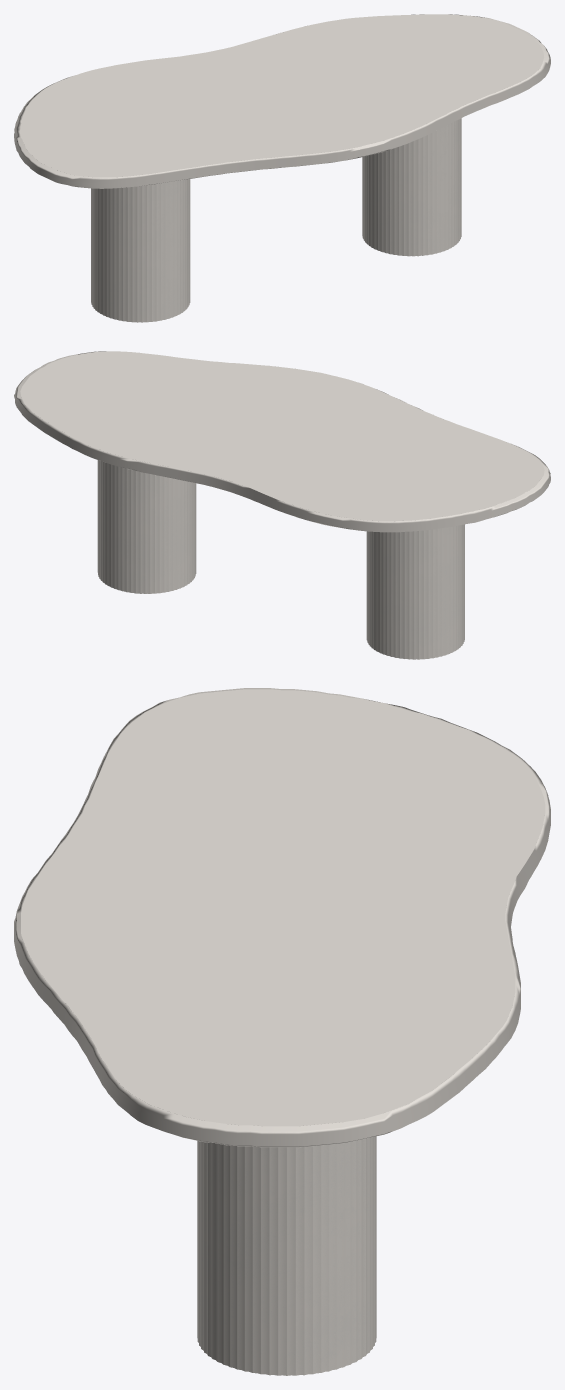
File: pearlwhite_toplast_round_ripplesecond.glb
3 renders of one model, top to bottom at view 1: azimuth 30°, elevation 25°; view 2: azimuth 150°, elevation 25°; view 3: azimuth 270°, elevation 25°, orthographic. The views are drawn at different scales.
Parts seen in each view (by area): view 1: round_toplast, ripplesecond; view 2: round_toplast, ripplesecond; view 3: round_toplast, ripplesecond.
Part boxes in pixels (box(x1,y1,x2,y2)): round_toplast: box(14, 14, 550, 188); ripplesecond: box(91, 118, 461, 322); round_toplast: box(14, 351, 550, 532); ripplesecond: box(97, 460, 464, 659); round_toplast: box(14, 688, 550, 1147); ripplesecond: box(197, 1136, 376, 1375).
Bounding box in the file's own units: 7.68 × 2.5 × 3.89.
1 material, 1 textured.
